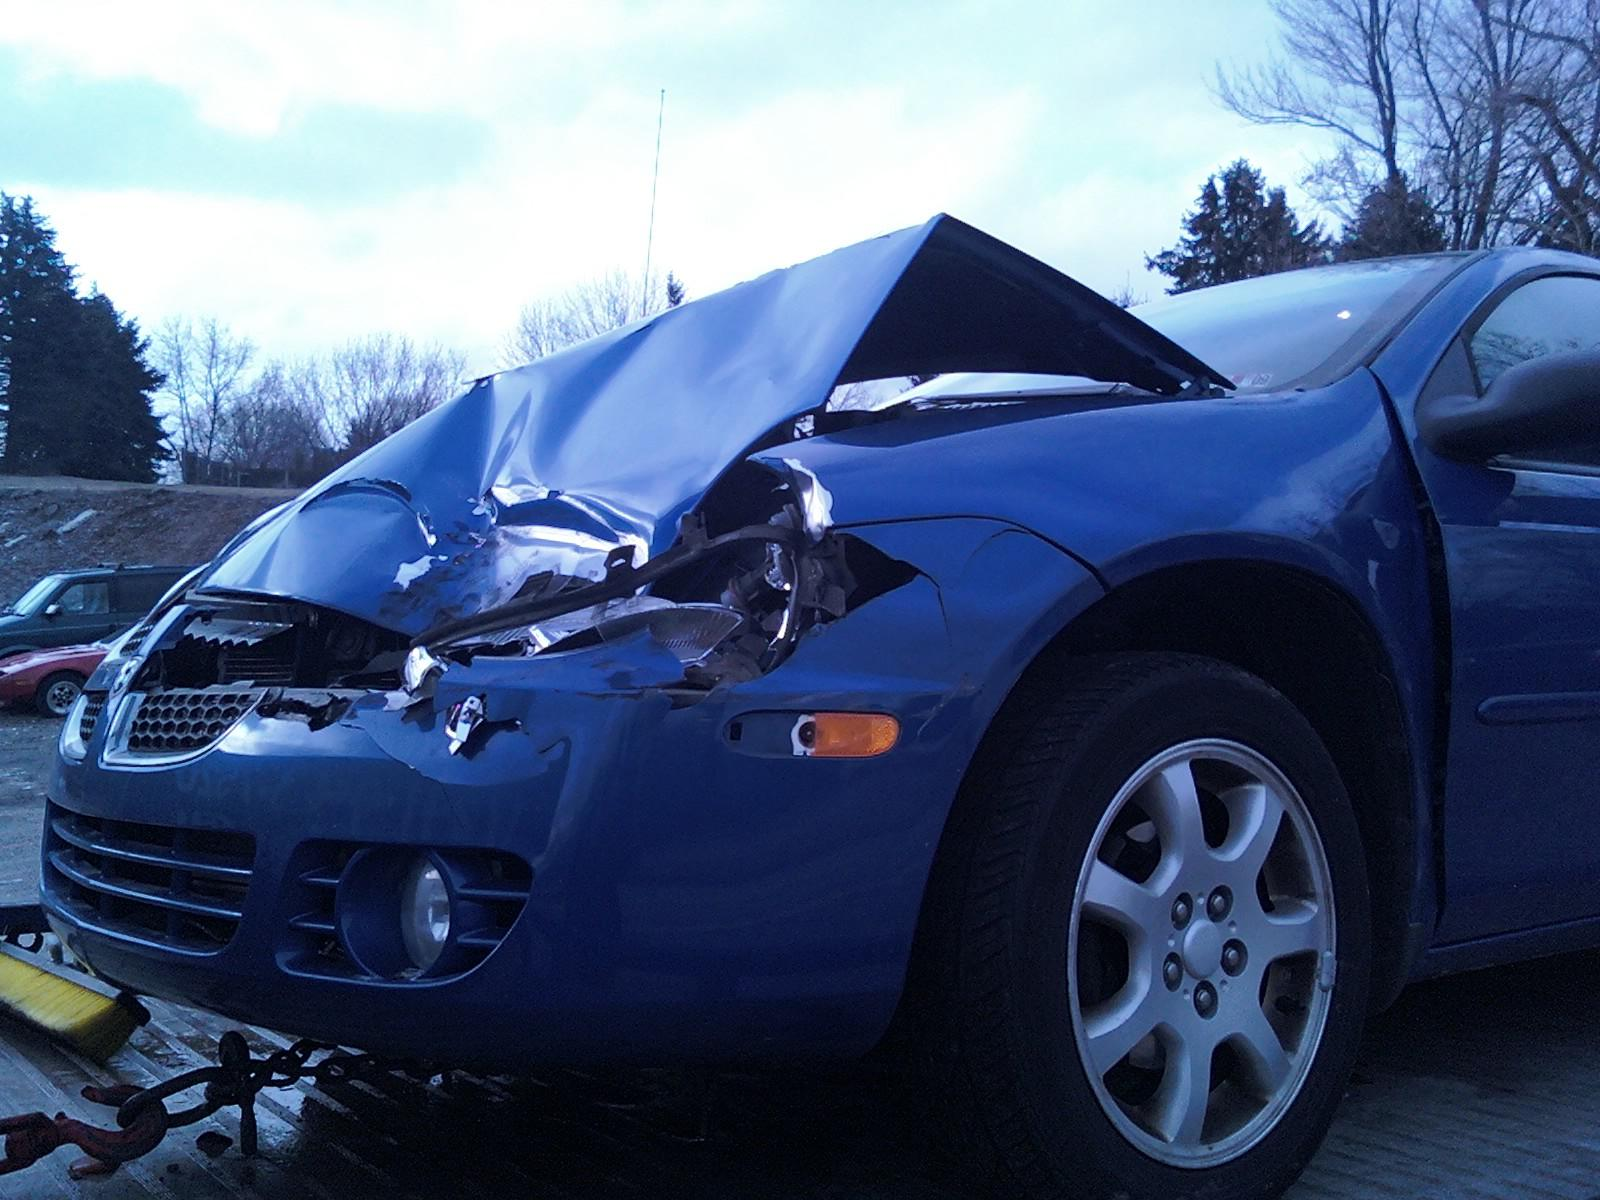Headlight-Damage: (370, 529, 847, 726)
bonnet-dent: (165, 227, 1073, 487)
